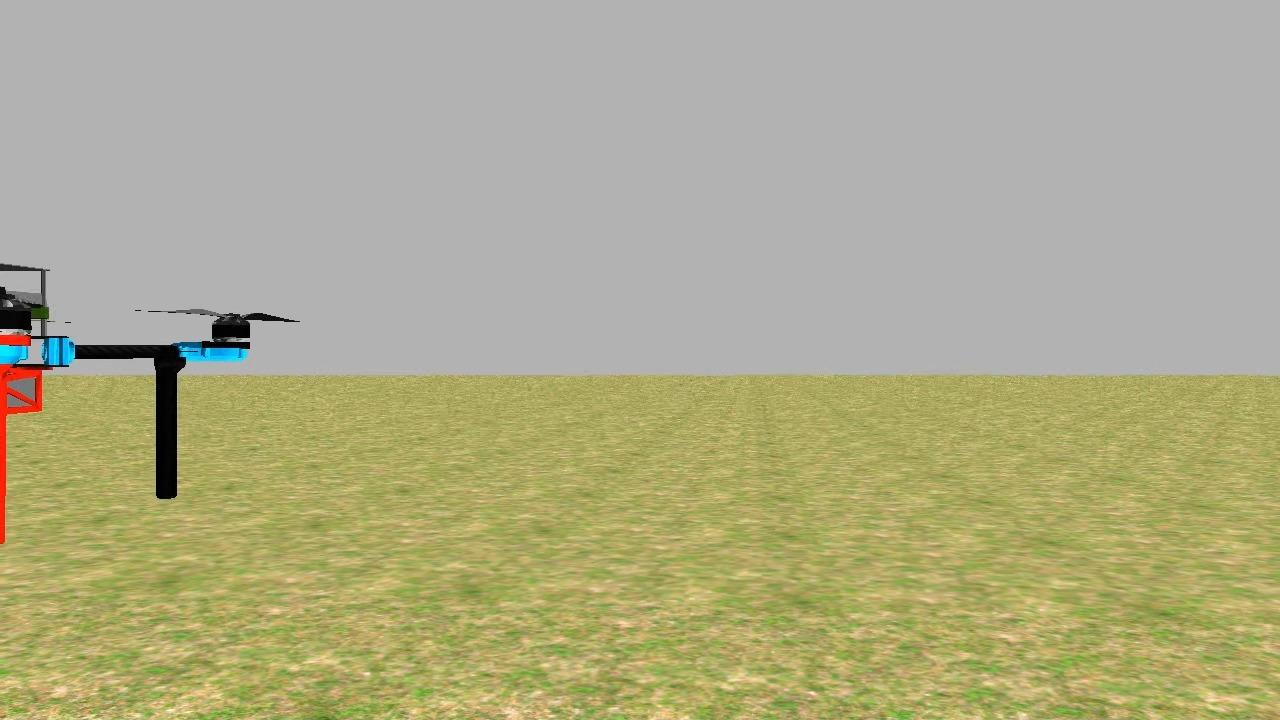UAV: (0, 244, 259, 556)
